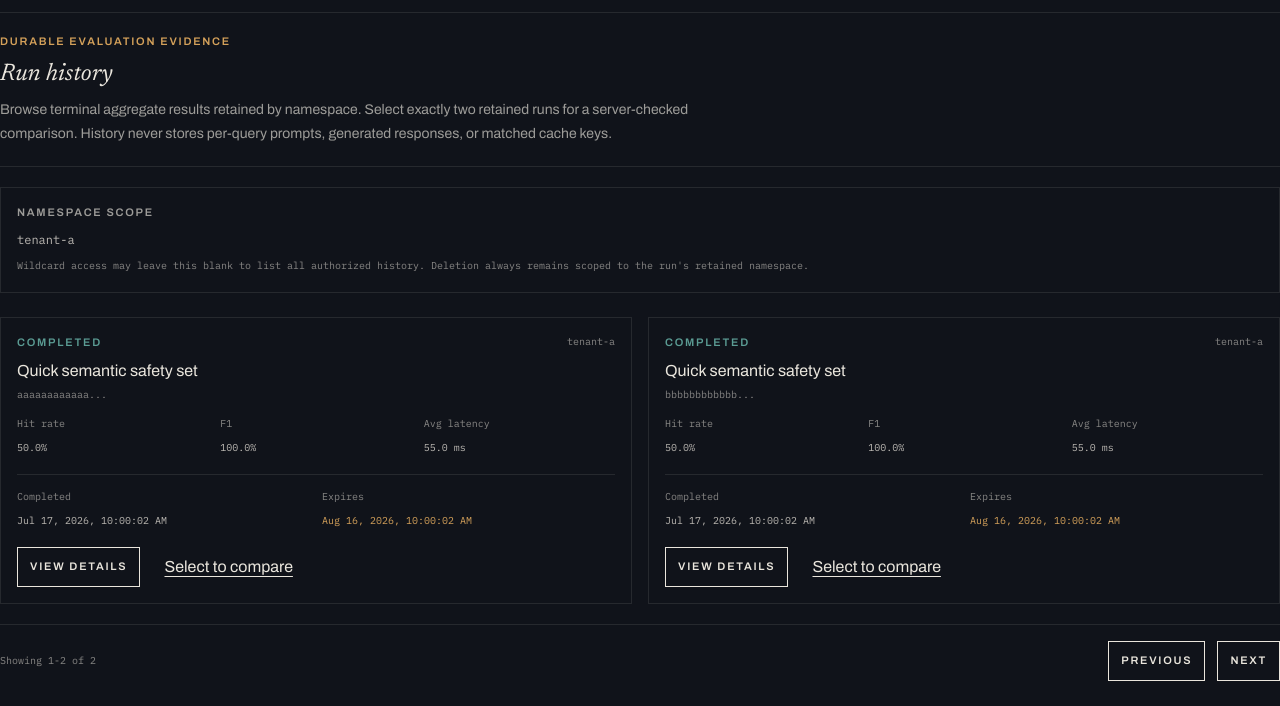
Test: evaluation run comparison UI › selects baseline then candidate and renders server-backed deltas
Click the 1st button "Select to compare" at (229, 566), box [152,546,305,586]
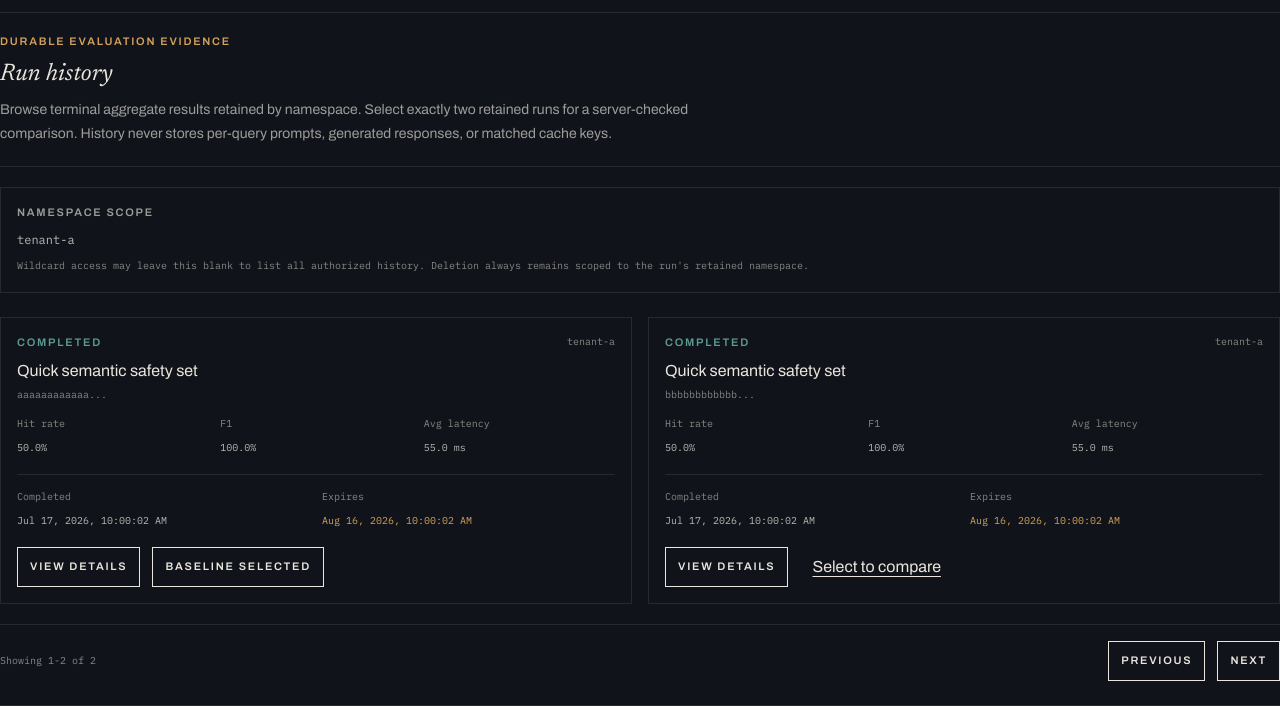
Now the button "Baseline selected" is shown, box [152,546,324,586]
Click the button "Select to compare" at (877, 566), box [800,546,953,586]
(page scrolled)
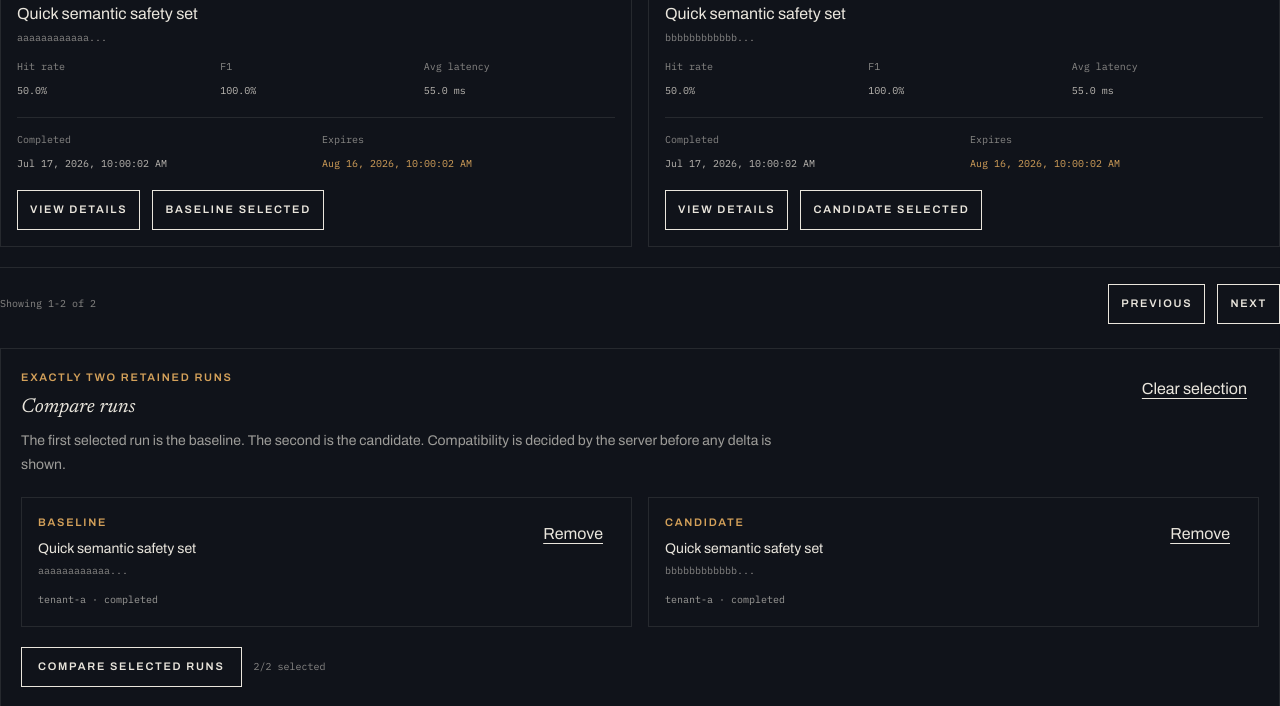
Now the button "Candidate selected" is shown, box [800,190,982,230]
Click the button "Compare selected runs" at (131, 666), box [21,646,242,686]
(page scrolled)
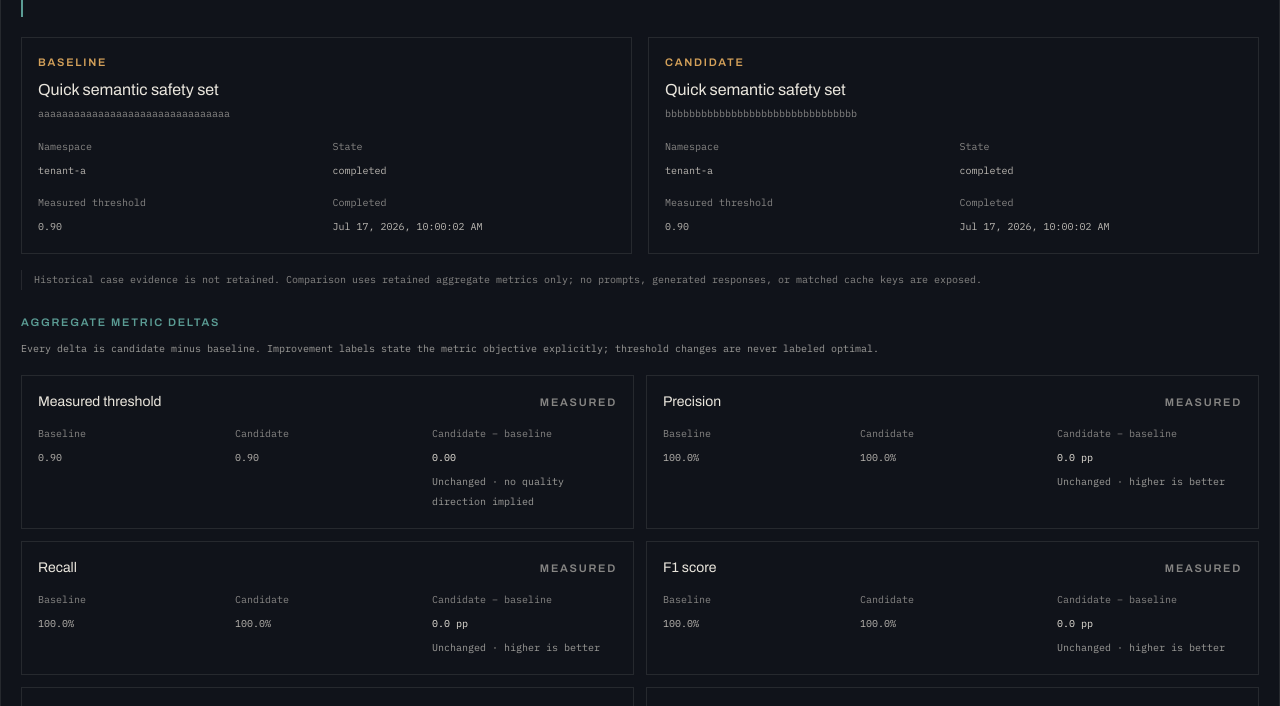
Now the heading "Aggregate metric deltas" is shown, box [21,316,220,328]
Now the text "candidate minus baseline" is shown, box [21,342,879,354]
